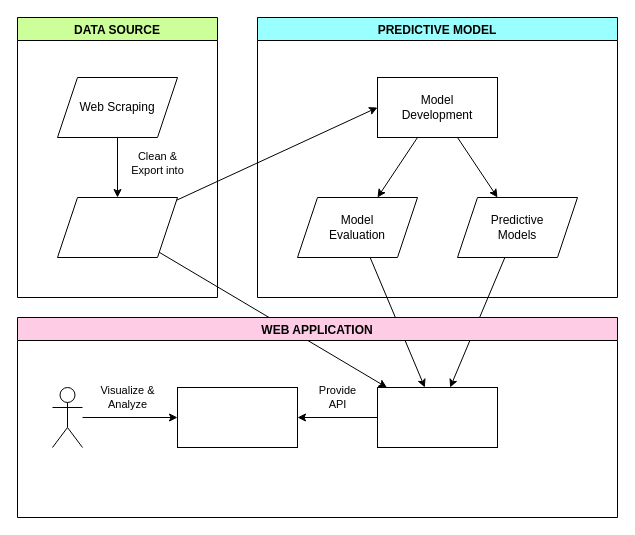
Some shapes in this 635 by 535 pixel diagram are drawn without their labels. Each missing label, with the centre of its shape:
Backend: the point at 437,417
CSV File: the point at 117,227
Frontend: the point at 237,417
User: the point at 67,417
